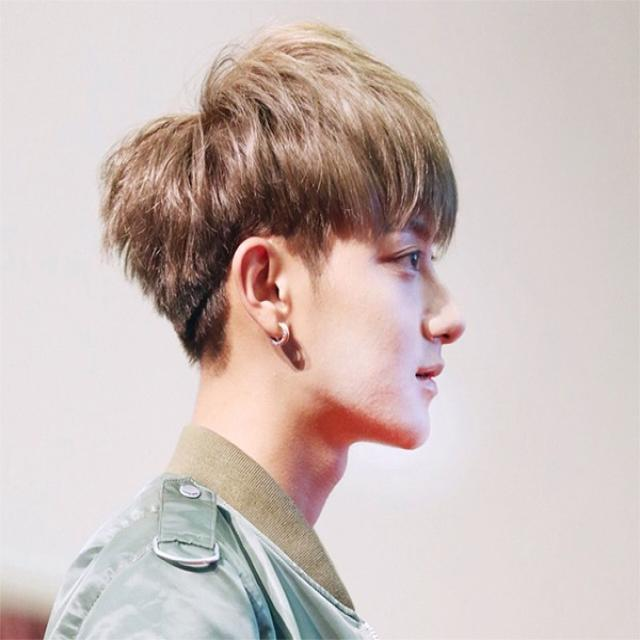Nonhelmet: (102, 18, 480, 468)
